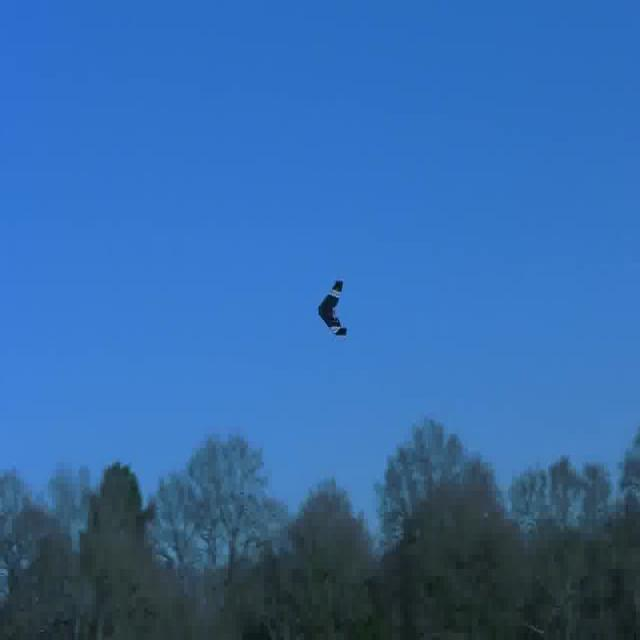iha: (314, 305, 351, 317)
